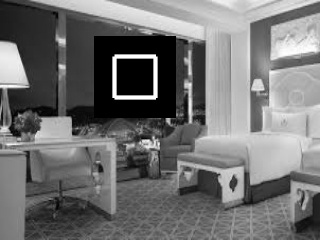square: (94, 36, 176, 117)
